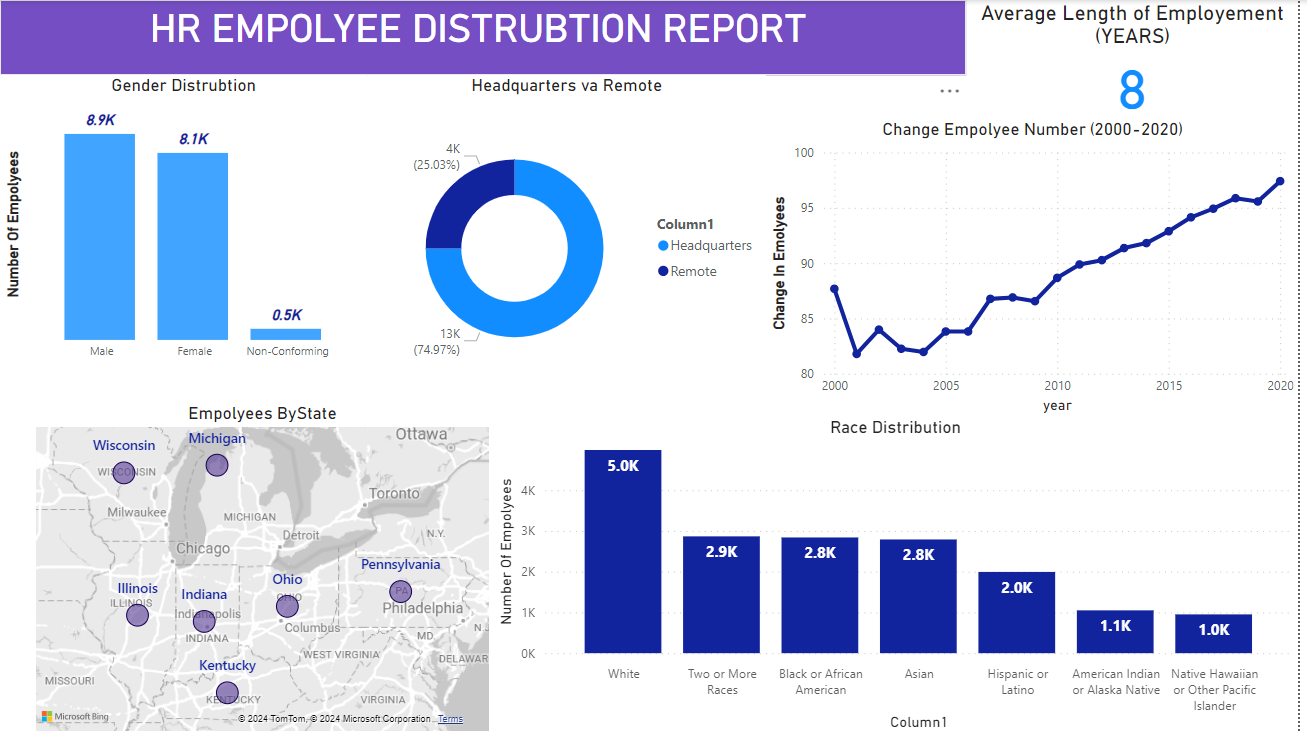

The dashboard page shown, as its layout file describes it:
{"tool":"powerbi","page":{"name":"Page 1","canvas":[1280,720],"ordinal":0},"visuals":[{"type":"textbox","box":[10,290,280,280],"z":0},{"type":"textbox","box":[9.8,0,944.9,73.3],"z":1000},{"type":"card","title":"Average Length of Employement (YEARS)","fields":{"Values":["Sum(avg_length_emp_int.Column1)"]},"box":[954.7,0,325.2,116.1],"z":2000},{"type":"columnChart","title":"Gender Distrubtion","fields":{"Y":["Sum(1__What_is_the_gendeoyees_in_the_company (2).Column2)"],"Category":["1__What_is_the_gendeoyees_in_the_company (2).Column1"]},"box":[9.8,73.3,359.4,287.3],"z":3000},{"type":"donutChart","title":"Headquarters va Remote","fields":{"Y":["Sum(location.Column2)"],"Category":["location.Column1"]},"box":[369.2,73.3,389.9,320.3],"z":4000},{"type":"lineChart","title":"Change Empolyee Number (2000-2020)","fields":{"Y":["Sum(Result_1.net_change_percent)"],"Category":["Result_1.year"]},"box":[759.1,116.1,520.7,293.4],"z":5000},{"type":"map","title":"Empolyees ByState","fields":{"Category":["Result_70.Column1","Result_70.Column2"]},"box":[40.3,393.6,452.3,326.4],"z":6000},{"type":"clusteredColumnChart","title":"Race Distribution","fields":{"Category":["Result_37.Column1"],"Y":["Sum(Result_37.Column2)"]},"box":[491.4,407.3,788.5,312.7],"z":7000}]}

Visuals, with their boxes in screenshot pixels (x1, y1, x2, y2), scaled from the page's 1280x720 canvas onto the 1307x733 screenshot:
textbox: 10:295:296:580
textbox: 10:0:975:75
"Average Length of Employement (YEARS)" card: 975:0:1306:118
"Gender Distrubtion" columnChart: 10:75:377:367
"Headquarters va Remote" donutChart: 377:75:775:401
"Change Empolyee Number (2000-2020)" lineChart: 775:118:1306:417
"Empolyees ByState" map: 41:401:503:732
"Race Distribution" clusteredColumnChart: 502:415:1306:732
